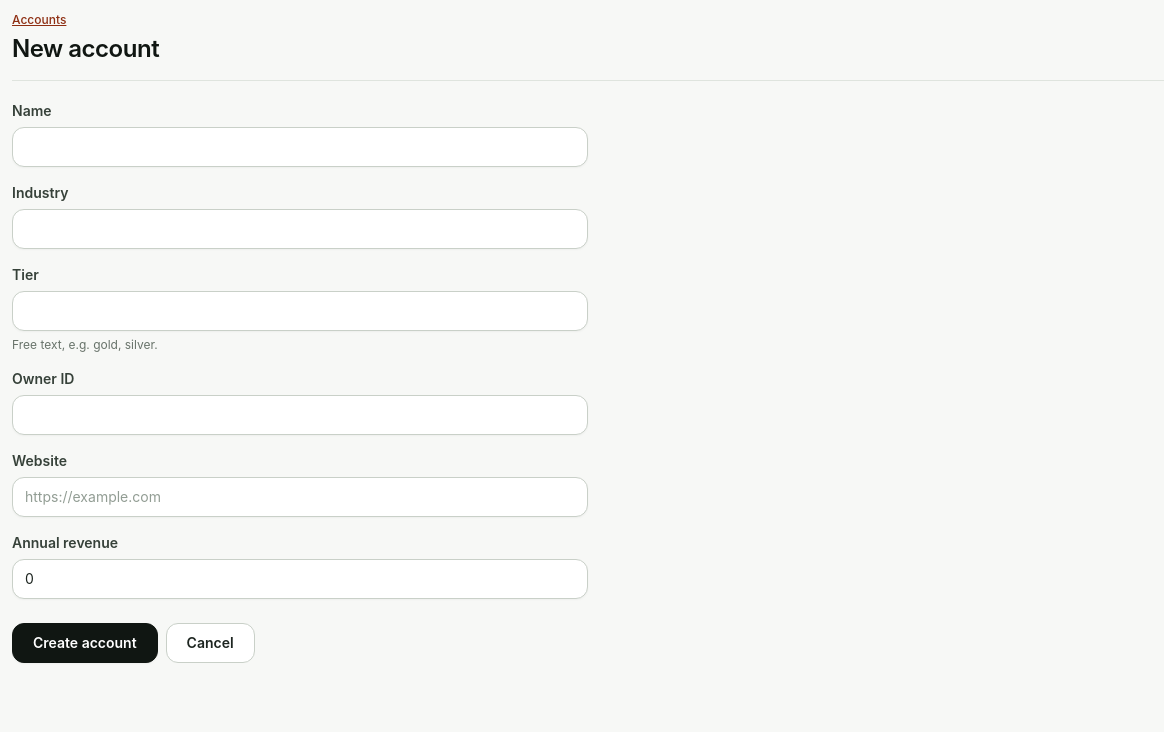
Test case: AccountFormPage — create › sends the typed values and navigates to the new account
Type "New Co" into the field labelled "Name".
click(300, 147); type("New Co")  # box left=12, top=127, right=588, bottom=167
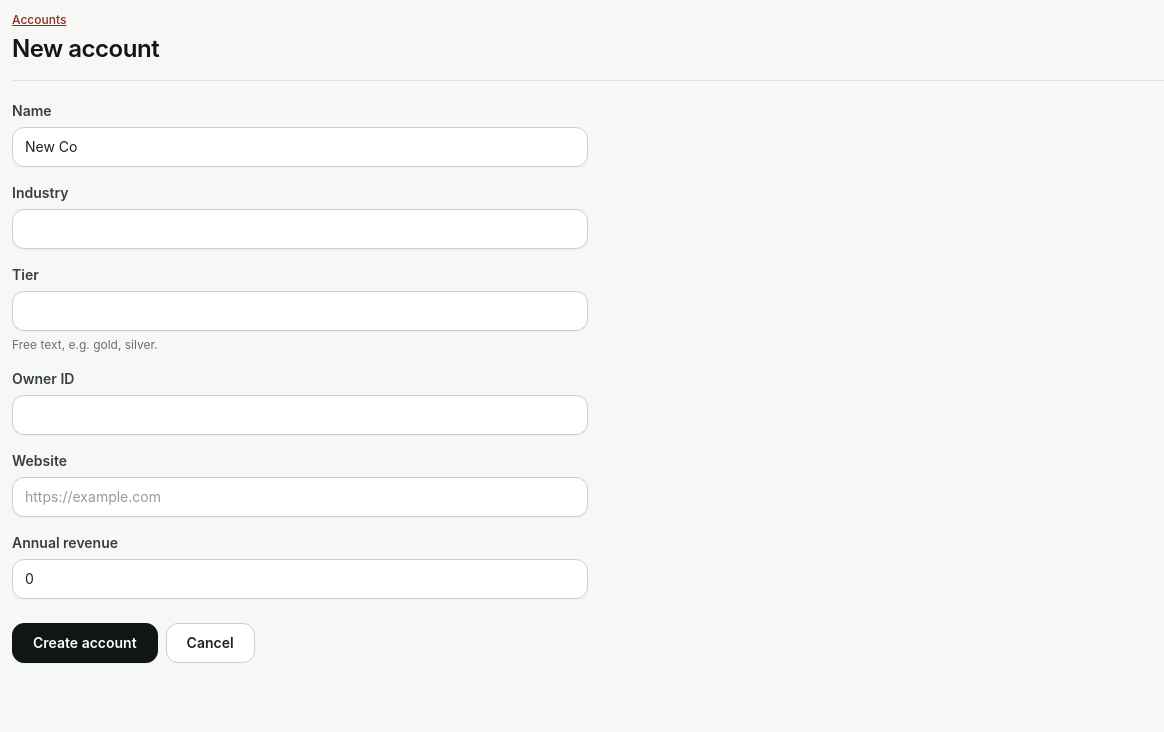
Type "user-9" into the field labelled "Owner ID".
click(300, 415); type("user-9")  # box left=12, top=395, right=588, bottom=435
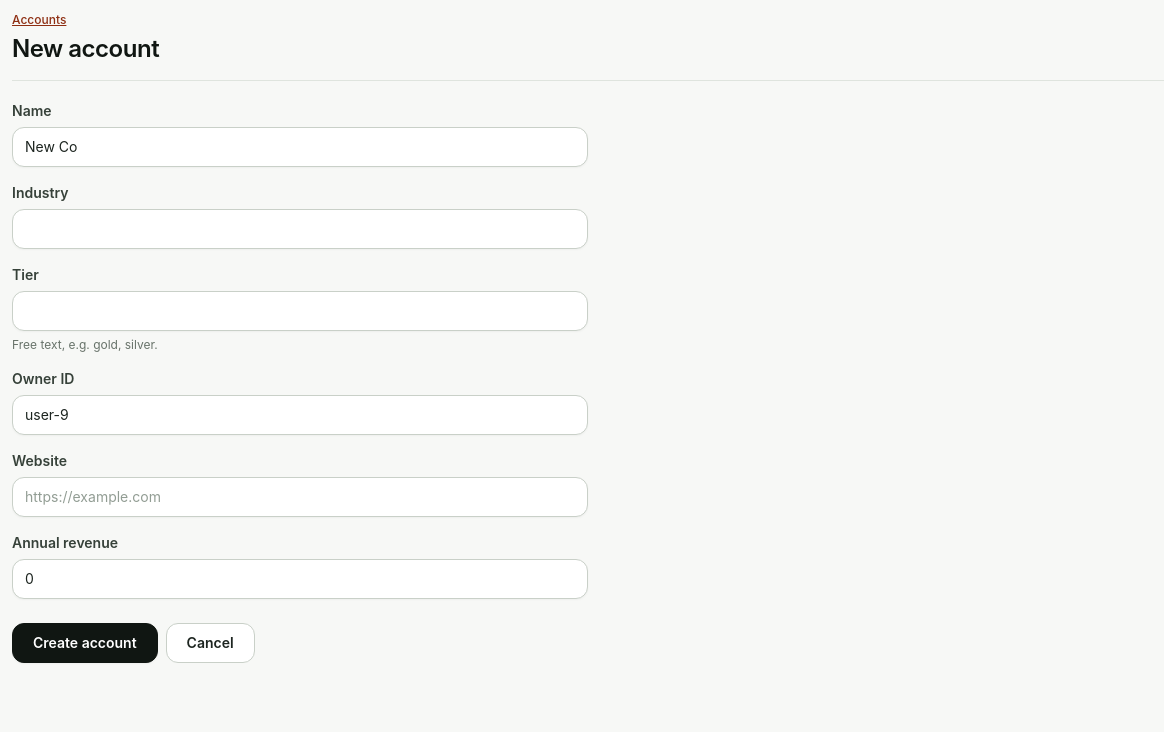
Type "Mining" into the field labelled "Industry".
click(300, 229); type("Mining")  # box left=12, top=209, right=588, bottom=249
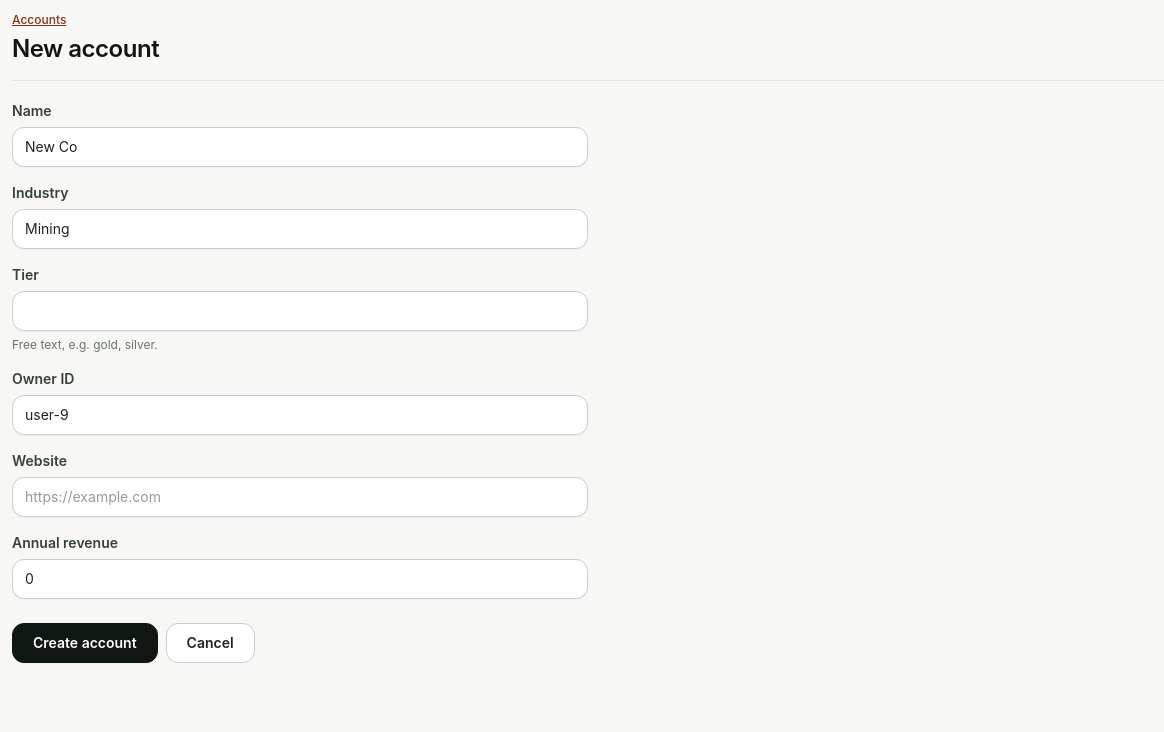
Click the button "Create account".
click(85, 643)  # box left=12, top=623, right=158, bottom=663
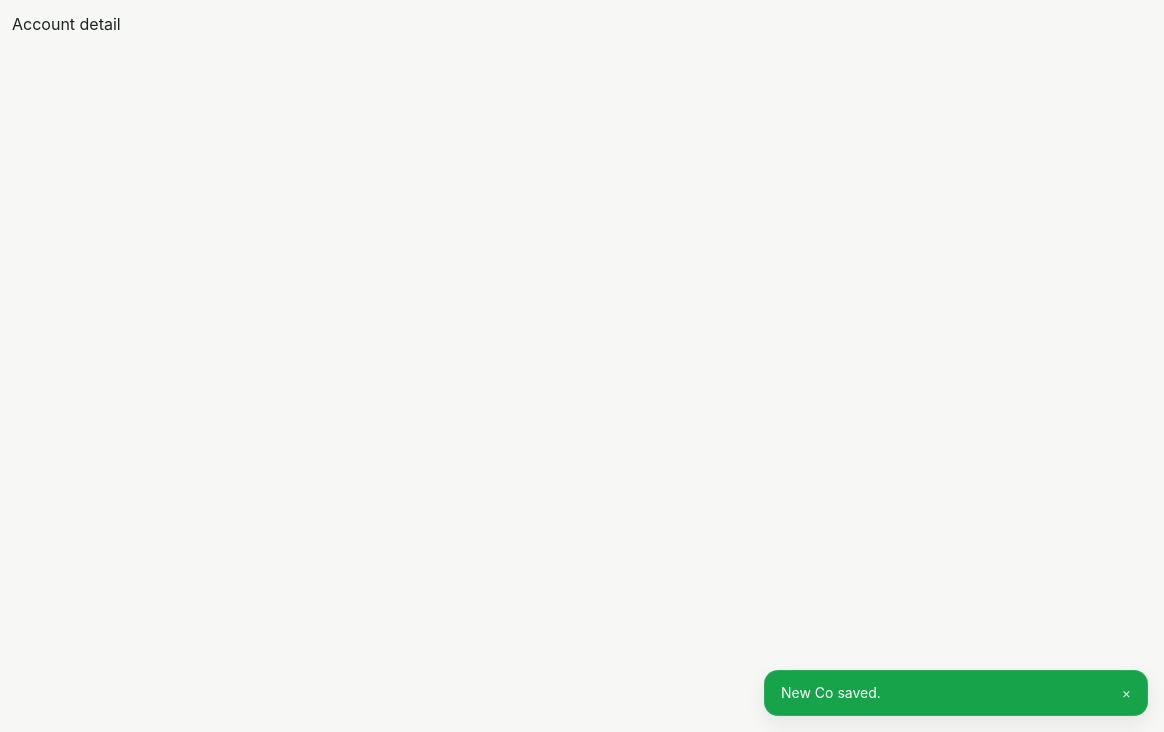
Check: the text "Account detail" is shown, box left=12, top=14, right=121, bottom=34
